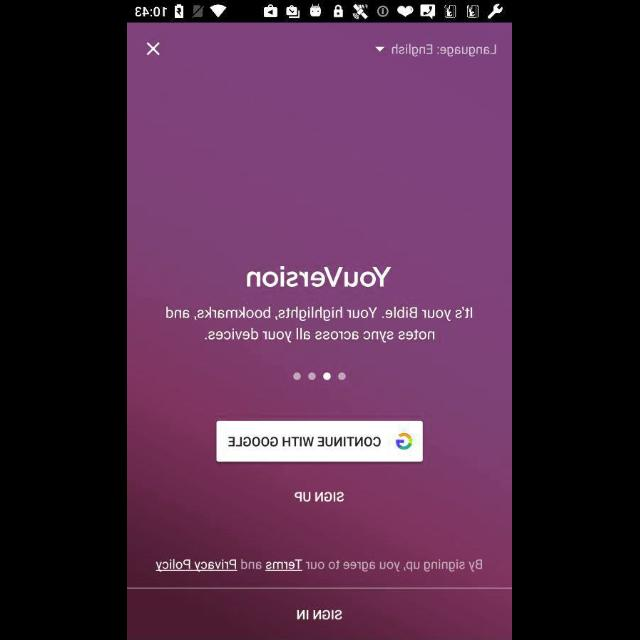icon: (147, 43, 161, 57), (376, 47, 386, 53)
pageindicator: (293, 372, 347, 382)
text: (166, 306, 474, 344), (155, 558, 482, 572), (246, 267, 392, 289), (392, 44, 498, 58), (295, 491, 345, 503)
textbutton: (128, 588, 512, 640), (216, 422, 424, 462)
uppertaskbar: (128, 1, 512, 23)
